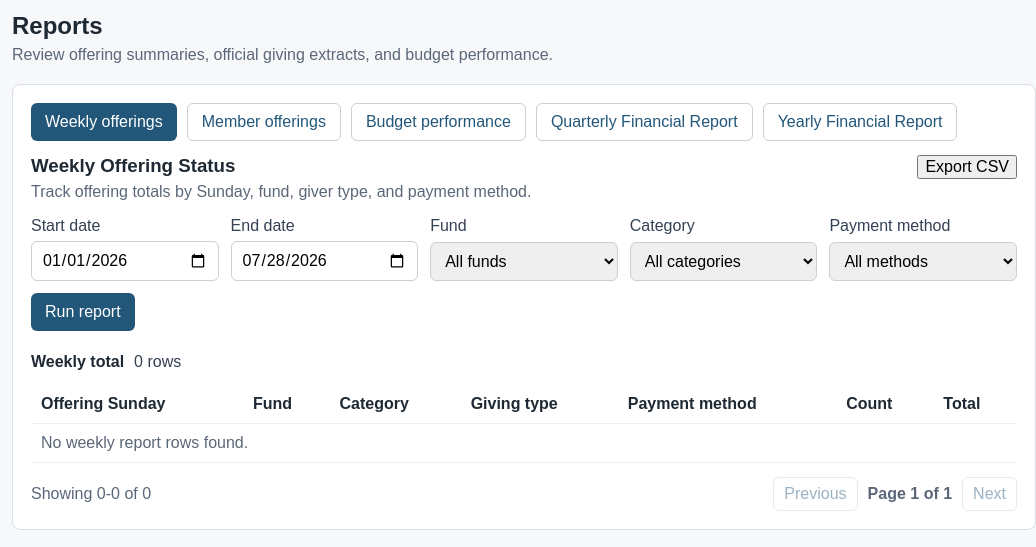
Test case: ReportsView › shows quarterly expenditure workbook download failures
Click the tab "Quarterly Financial Report".
click(644, 122)  # box [536, 103, 753, 141]
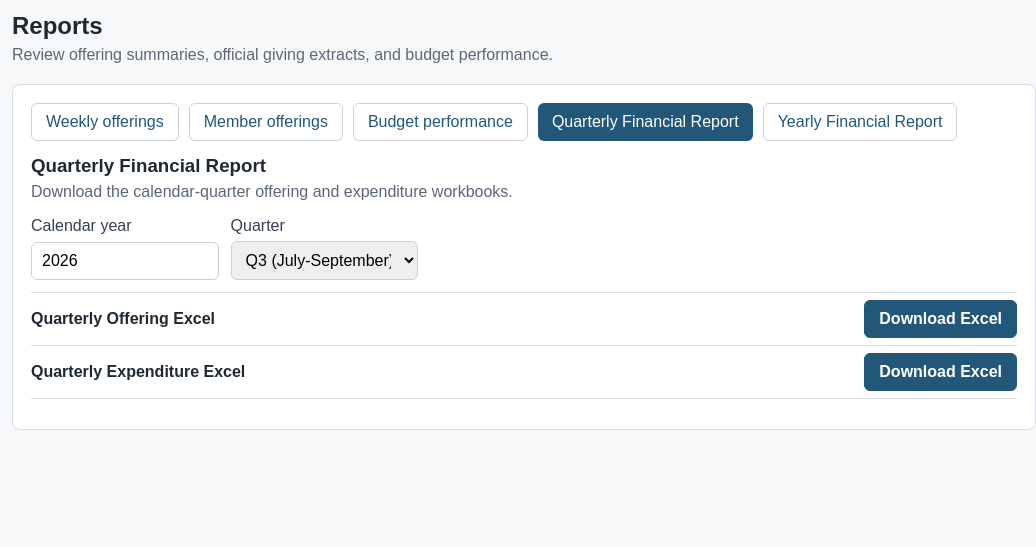
Click the button with aria-label "download quarterly expenditure excel".
click(941, 372)  # box [864, 353, 1017, 391]
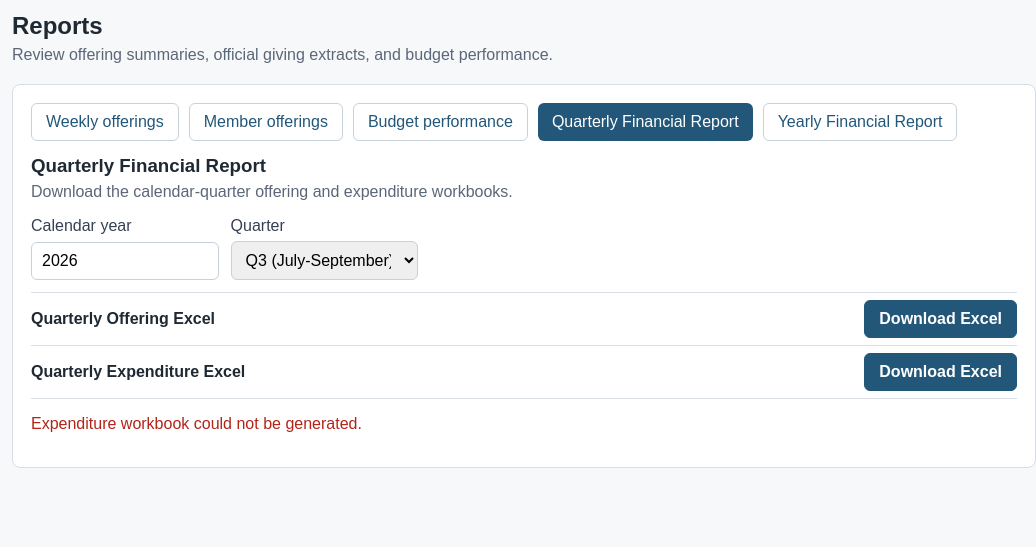
Now the text "Expenditure workbook could not be generated." is shown, box [31, 415, 362, 432]
